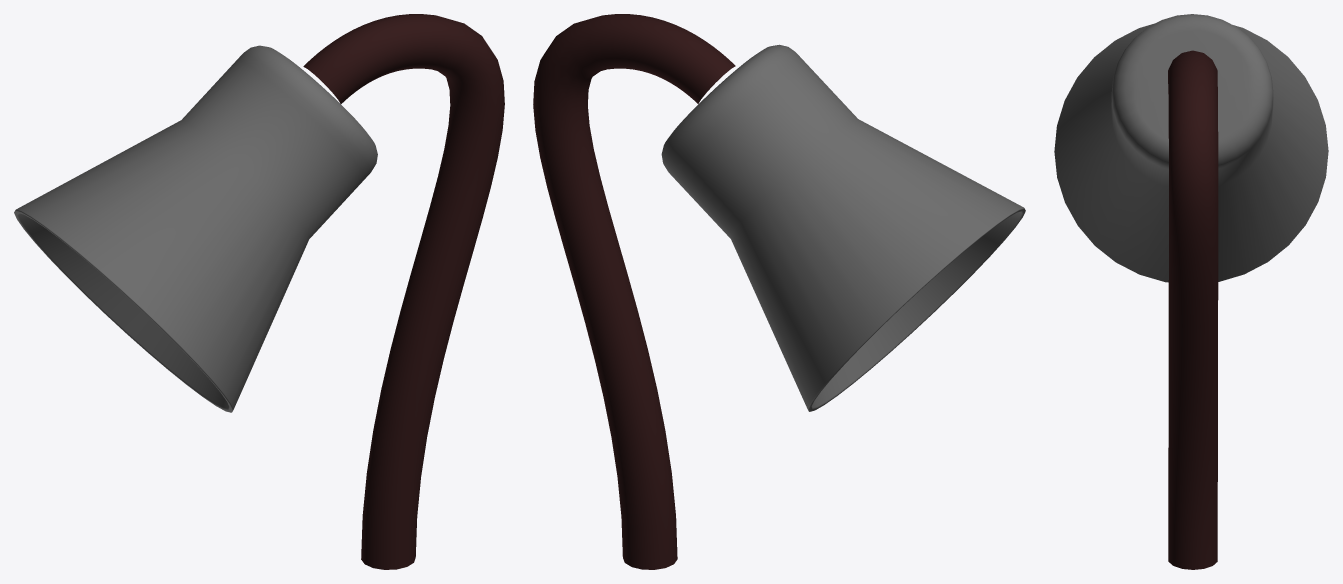
The model's file is light_without_stand.gltf.
3 views of the same model, side by side, from view 1: azimuth 30°, elevation 25°; view 2: azimuth 150°, elevation 25°; view 3: azimuth 270°, elevation 25° (orthographic). The views are drawn at different scales.
Visible parts, largest first — view 1: Construction - piece, Holder; view 2: Construction - piece, Holder; view 3: Construction - piece, Holder.
Boxes of the visible parts, <box> form: Construction - piece: <box>14,45,377,412</box>; Holder: <box>303,14,504,569</box>; Construction - piece: <box>661,44,1025,411</box>; Holder: <box>533,14,735,569</box>; Construction - piece: <box>1054,14,1328,282</box>; Holder: <box>1168,50,1218,569</box>.
Bounding box in the file's own units: 0.3237 × 0.3626 × 0.1816.
